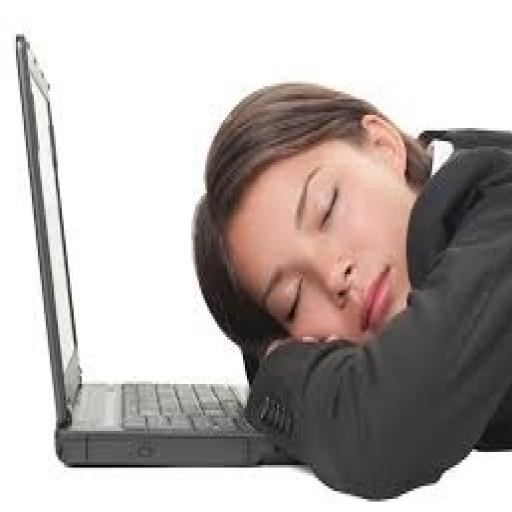sleeping: (189, 76, 510, 502)
